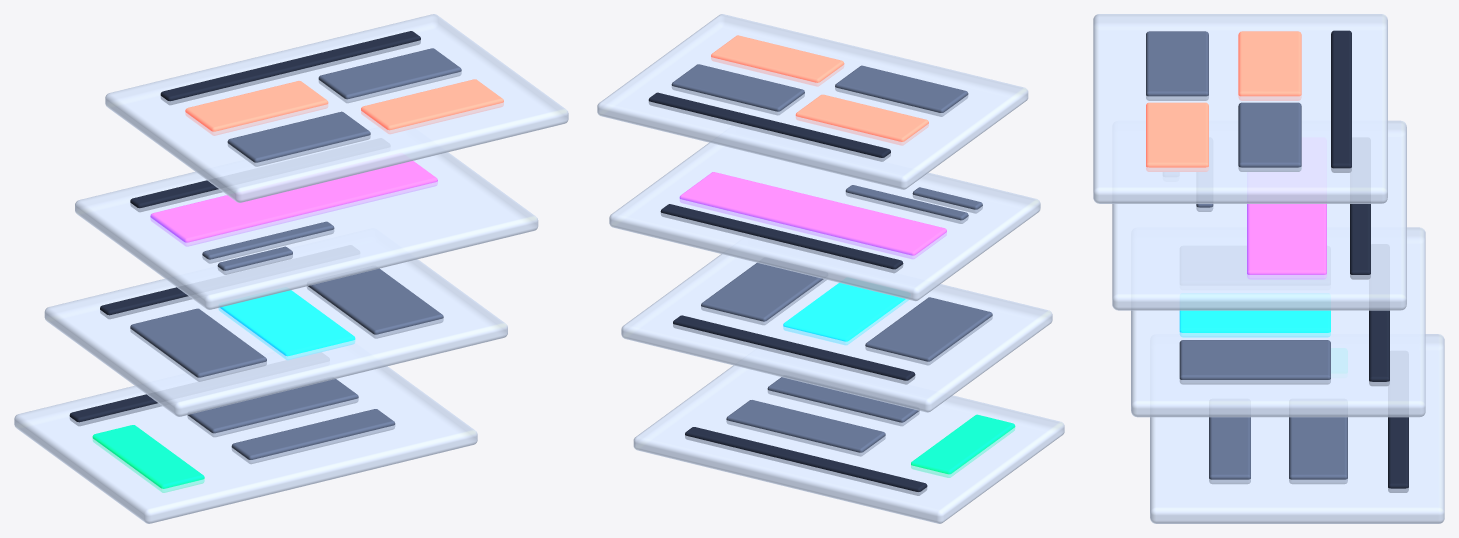
File: figma-stack.glb
The picture shows the model from 3 angles, left to right: view 1: azimuth 30°, elevation 25°; view 2: azimuth 150°, elevation 25°; view 3: azimuth 270°, elevation 25°; orthographic projection. The views are drawn at different scales.
Parts seen in each view (by area): view 1: Frame_3, Frame_1, Frame_2, Frame_0; view 2: Frame_3, Frame_2, Frame_0, Frame_1; view 3: Frame_3, Frame_1, Frame_0, Frame_2.
Part boxes in pixels (box(x1,y1,x2,y2)): Frame_3: box(105, 14, 568, 202); Frame_1: box(44, 259, 507, 416); Frame_2: box(75, 152, 538, 309); Frame_0: box(14, 366, 477, 523); Frame_3: box(597, 14, 1028, 189); Frame_2: box(609, 142, 1040, 301); Frame_0: box(633, 365, 1064, 523); Frame_1: box(621, 254, 1052, 412); Frame_3: box(1093, 14, 1387, 203); Frame_1: box(1131, 227, 1425, 417); Frame_0: box(1150, 334, 1444, 523); Frame_2: box(1112, 120, 1406, 310).
Size of the model in its own units: 2.39 by 1.96 by 1.67.
